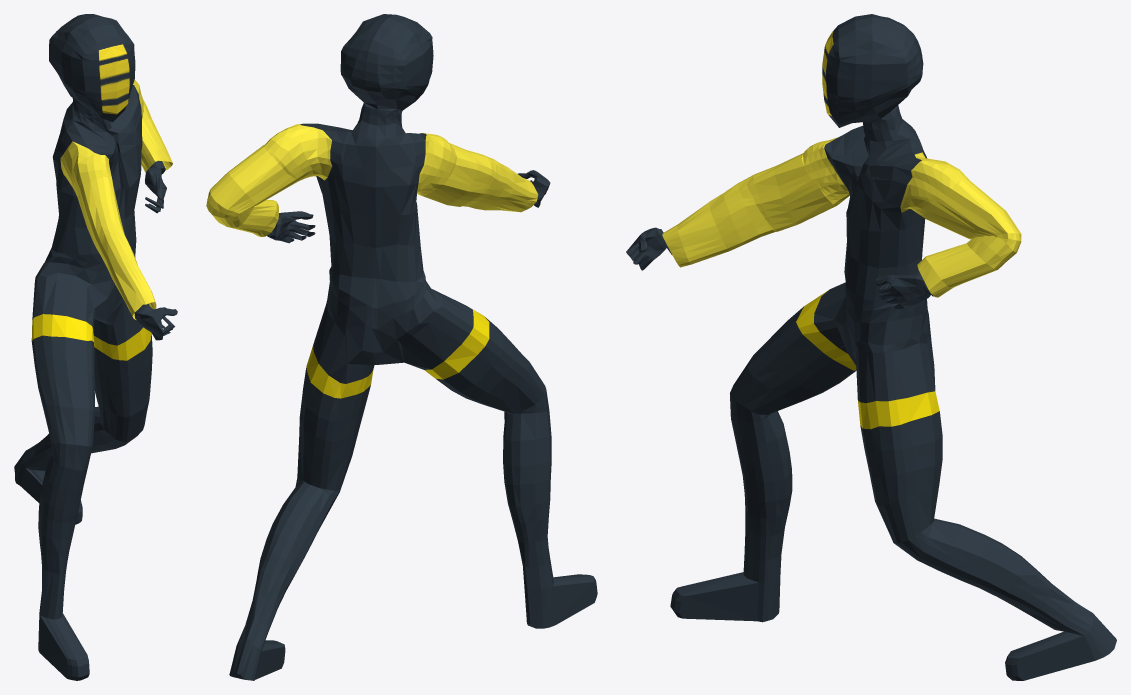
The model's file is Sentry_WL_000011.obj.
The picture shows the model from 3 angles, left to right: view 1: azimuth 30°, elevation 25°; view 2: azimuth 150°, elevation 25°; view 3: azimuth 270°, elevation 25°; orthographic projection. The views are drawn at different scales.
Visible parts, largest first — view 1: Cube; view 2: Cube; view 3: Cube.
Part boxes in pixels (x1,y1,x2,y2): Cube: (14,14,177,680); Cube: (206,14,597,680); Cube: (626,14,1116,680).
Size of the model in its own units: 1.42 by 3.6 by 2.46.
